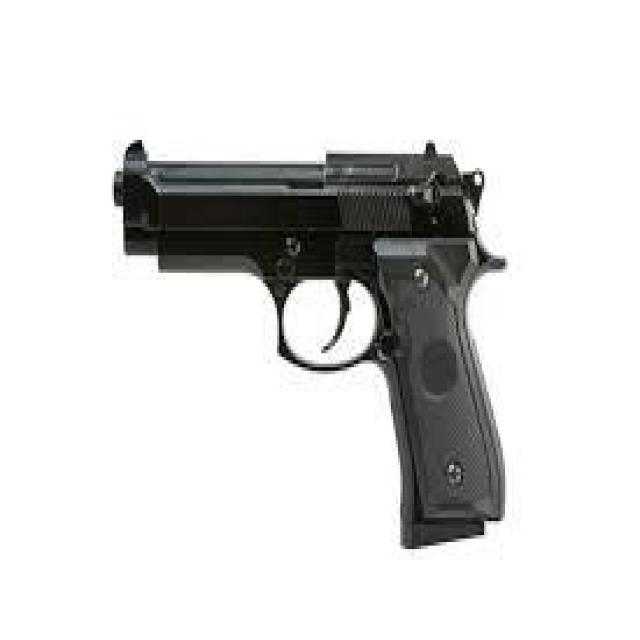gun: (112, 140, 507, 553)
